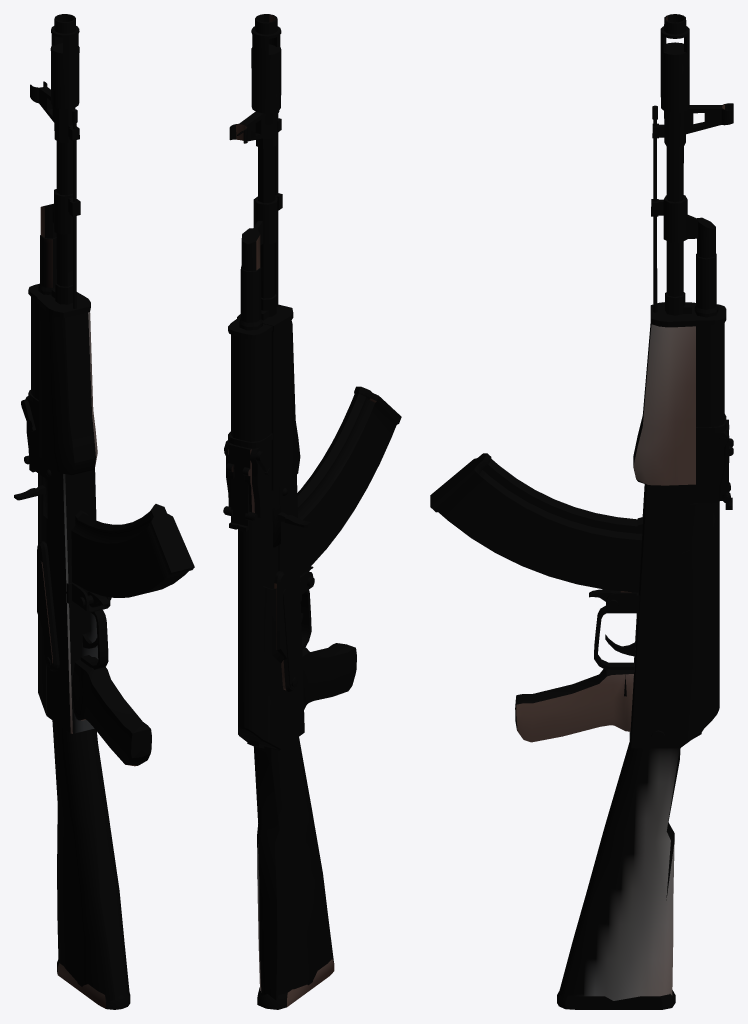
3 views of the same model, side by side, from view 1: azimuth 30°, elevation 25°; view 2: azimuth 150°, elevation 25°; view 3: azimuth 270°, elevation 25° (orthographic). The views are drawn at different scales.
Parts seen in each view (by area): view 1: asset_AK74.001; view 2: asset_AK74.001; view 3: asset_AK74.001.
Part boxes in pixels (bbox=[...]): asset_AK74.001: bbox=[14, 14, 194, 1009]; asset_AK74.001: bbox=[223, 14, 401, 1009]; asset_AK74.001: bbox=[430, 14, 733, 1009].
Bounding box in the file's own units: 0.0405 × 0.564 × 0.1574.
